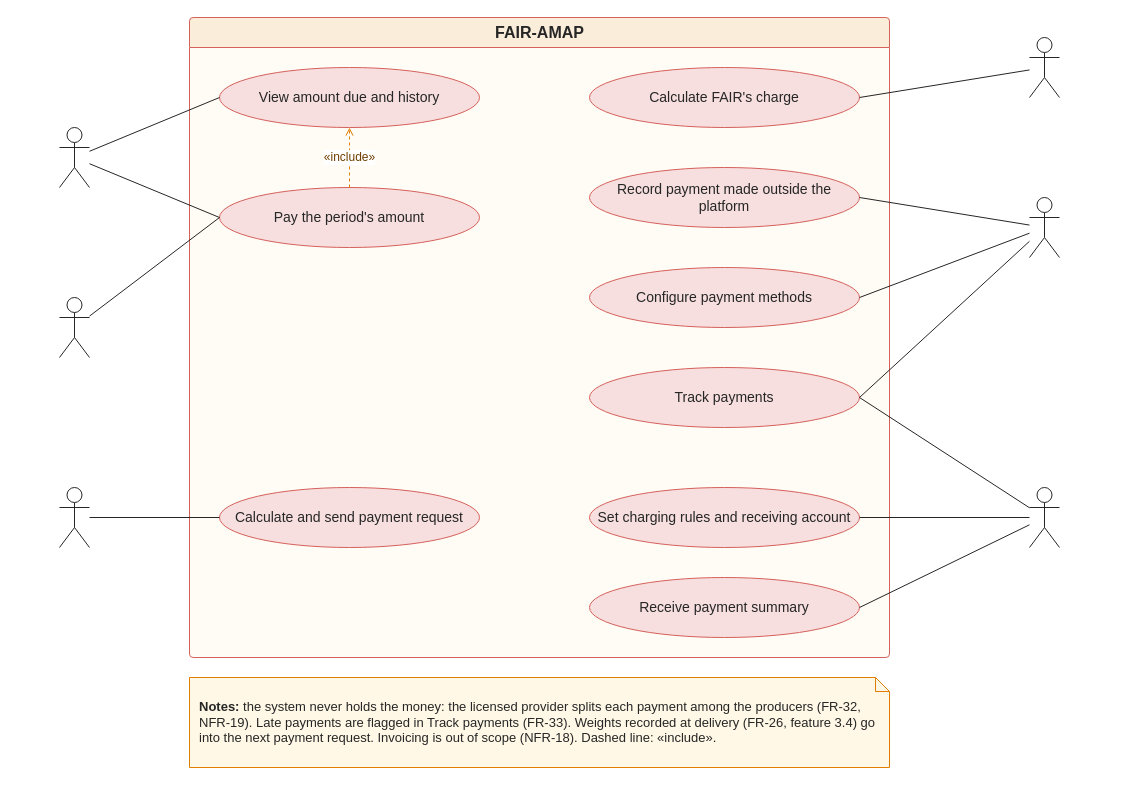
Some shapes in this 1124 by 785 pixel diagram are drawn without their labels. The centre of each missing label's shape, as x and y in pixels:
"AMAP management" goes at point 1044,227.
"Co-producer" goes at point 74,157.
"FAIR administrator" goes at point 1044,67.
"Licensed payment provider" goes at point 74,327.
"Producer" goes at point 1044,517.
"Time" goes at point 74,517.
